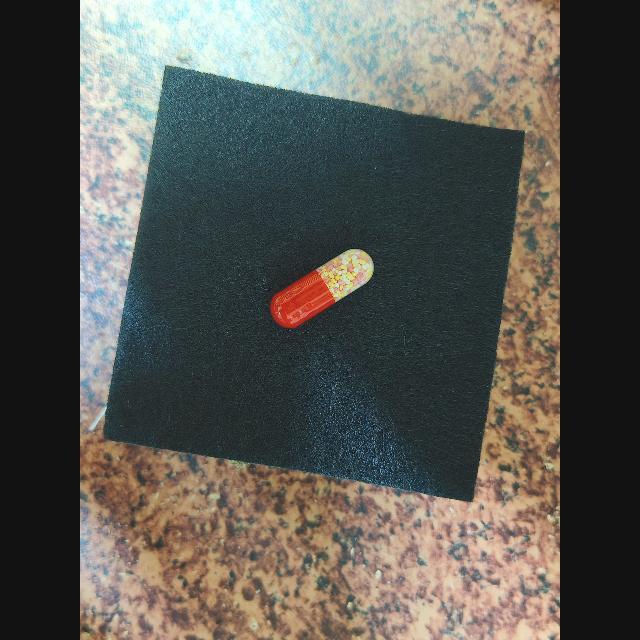Intact Capsule: (270, 249, 374, 329)
